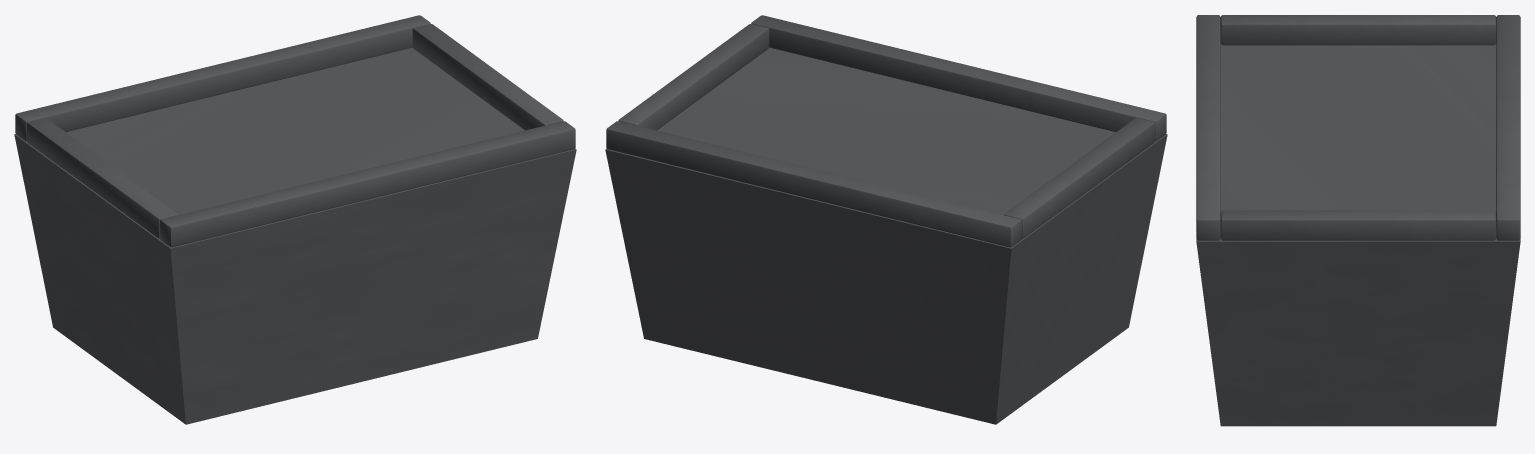
File: storage_tote_charcoal.glb
3 views of the same model, side by side, from view 1: azimuth 30°, elevation 25°; view 2: azimuth 150°, elevation 25°; view 3: azimuth 270°, elevation 25° (orthographic). The views are drawn at different scales.
Visible parts, largest first — view 1: Tote_Body, Rim_F, Rim_B, Rim_L, Rim_R; view 2: Tote_Body, Rim_B, Rim_F, Rim_L, Rim_R; view 3: Tote_Body, Rim_L, Rim_R, Rim_B, Rim_F.
Boxes of the visible parts, left/top/right/bottom form: Tote_Body: left=14, top=47, right=576, bottom=424; Rim_F: left=159, top=121, right=575, bottom=247; Rim_B: left=15, top=15, right=430, bottom=141; Rim_L: left=27, top=118, right=177, bottom=238; Rim_R: left=412, top=24, right=563, bottom=130; Tote_Body: left=605, top=47, right=1167, bottom=424; Rim_B: left=606, top=121, right=1022, bottom=247; Rim_F: left=751, top=15, right=1166, bottom=141; Rim_L: left=1004, top=118, right=1154, bottom=238; Rim_R: left=618, top=24, right=769, bottom=130; Tote_Body: left=1196, top=43, right=1520, bottom=426; Rim_L: left=1220, top=15, right=1496, bottom=45; Rim_R: left=1220, top=210, right=1496, bottom=240; Rim_B: left=1496, top=15, right=1520, bottom=240; Rim_F: left=1196, top=15, right=1220, bottom=240.
Size of the model in its own units: 0.6 by 0.3 by 0.4.
4 materials, 3 textured.
